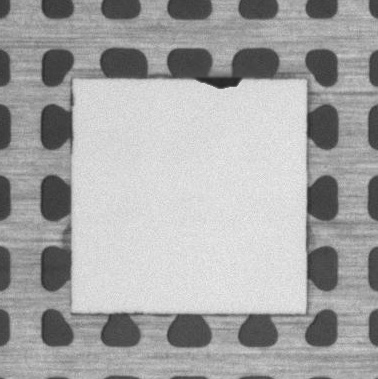DIE_BROKEN: (198, 75, 246, 90)
